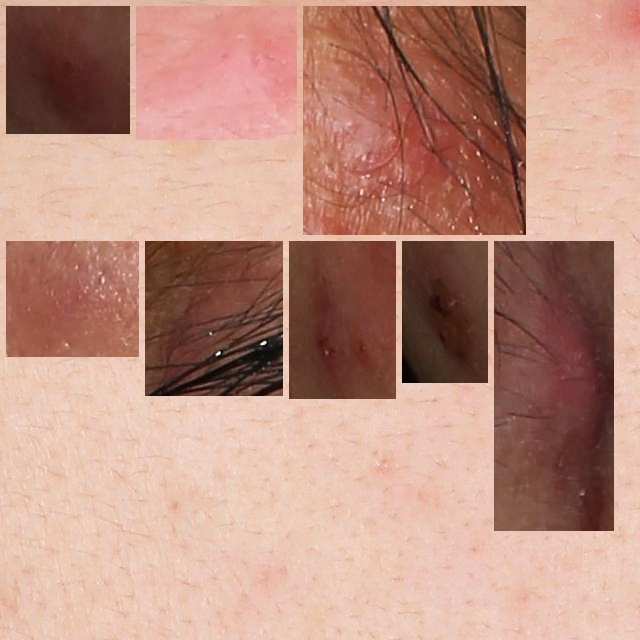nodule: (311, 14, 518, 227), (502, 249, 612, 523), (144, 14, 289, 132), (153, 249, 275, 388), (297, 249, 388, 391), (14, 14, 122, 126), (14, 249, 131, 349), (410, 249, 480, 375)
